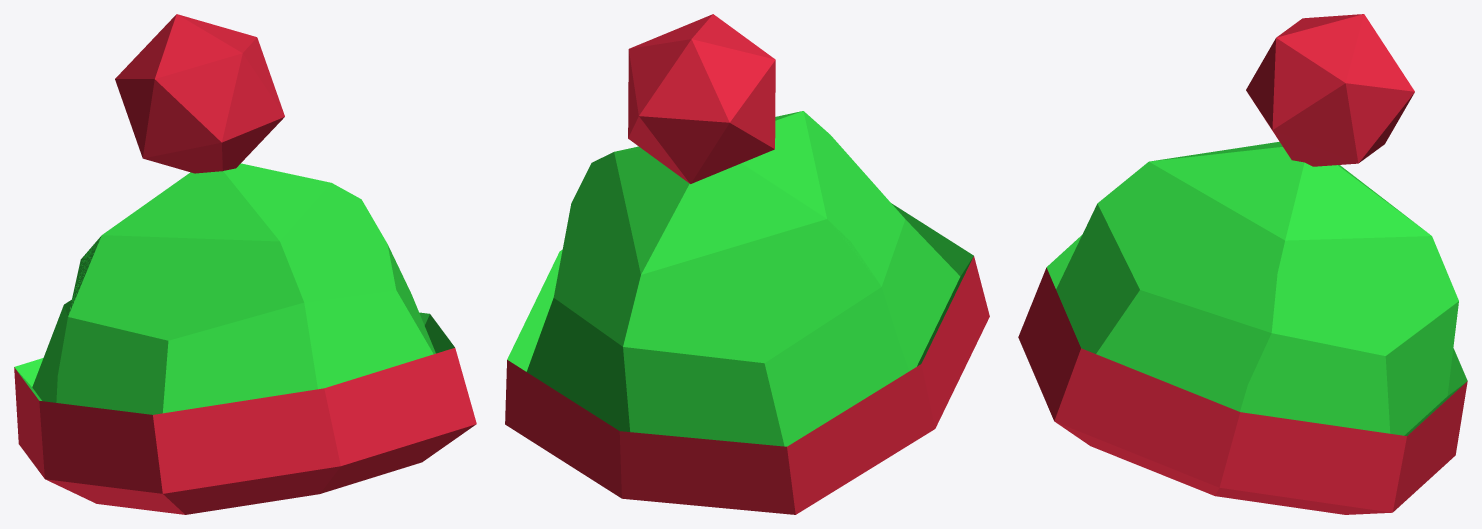
File: beanie.glb
The picture shows the model from 3 angles, left to right: view 1: azimuth 30°, elevation 25°; view 2: azimuth 150°, elevation 25°; view 3: azimuth 270°, elevation 25°; orthographic projection.
Parts seen in each view (by area): view 1: Cube, Cube.002, Cube.001; view 2: Cube, Cube.002, Cube.001; view 3: Cube, Cube.002, Cube.001.
Part boxes in pixels (bbox=[...]): Cube: bbox=[14, 163, 454, 414]; Cube.002: bbox=[14, 348, 476, 514]; Cube.001: bbox=[115, 14, 284, 173]; Cube: bbox=[507, 111, 973, 446]; Cube.002: bbox=[505, 256, 989, 514]; Cube.001: bbox=[628, 14, 775, 183]; Cube: bbox=[1046, 141, 1467, 435]; Cube.002: bbox=[1018, 267, 1467, 514]; Cube.001: bbox=[1246, 14, 1414, 166].
Bounding box in the file's own units: 1.75 × 1.93 × 1.74.
